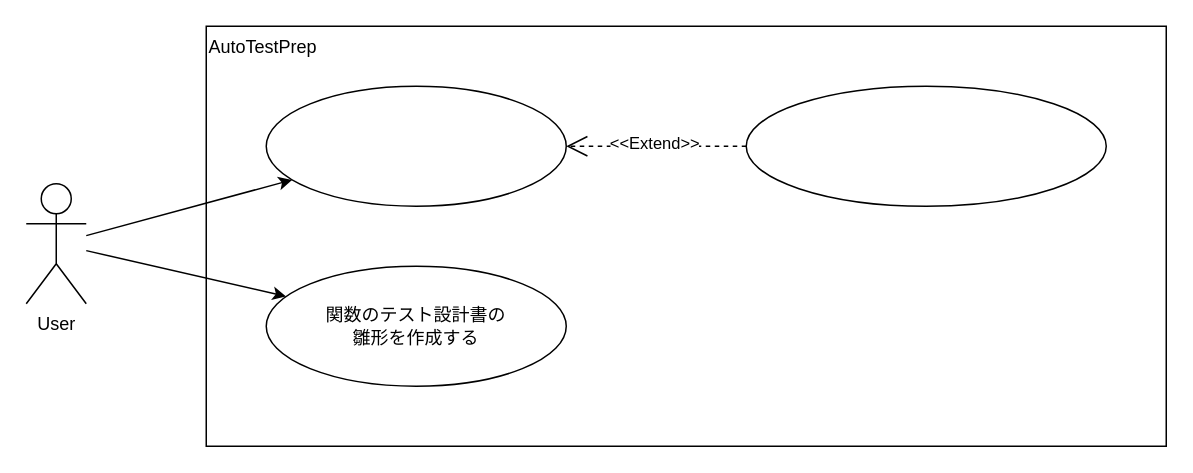
The diagram is 1193 pixels wide and 473 high, and some of its shapes have lost their labels. The centre of each missing label's shape, as x and y in pixels:
Doxygenを使用して、 ソースコードの関数/変数の 参照関係をデータベース化する。: (925,145)
ソースコードから、 実装されたコード/関数の 一覧を生成する: (415,145)
